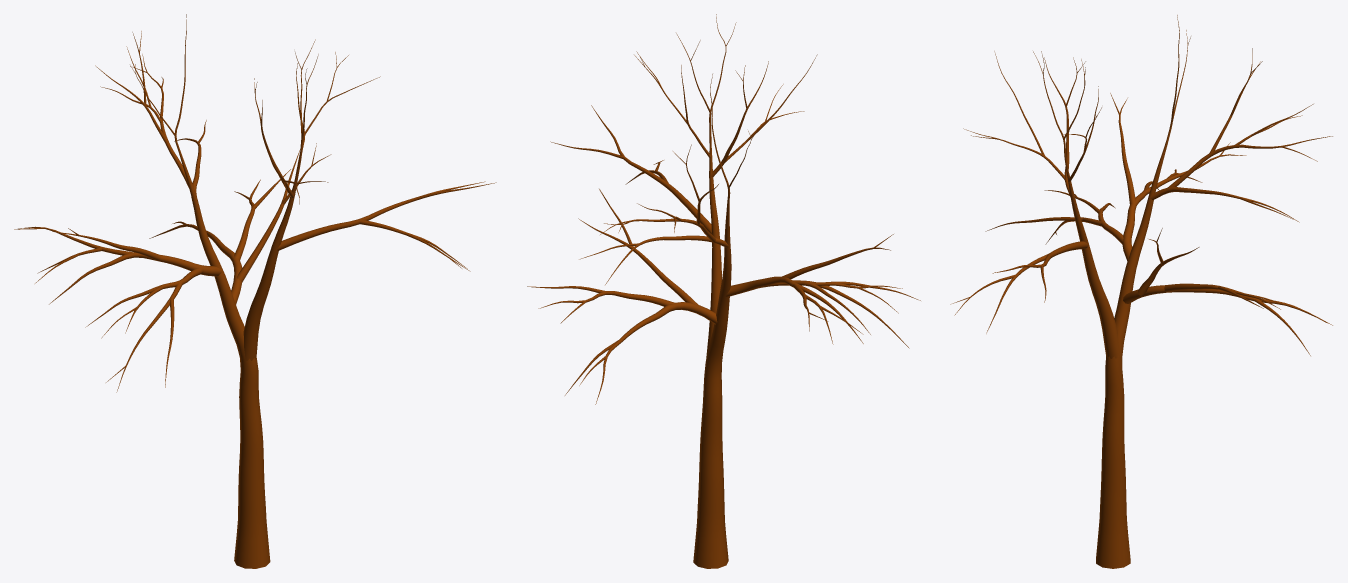
The model's file is TREE_TRUNK_3.fbx.
The picture shows the model from 3 angles, left to right: view 1: azimuth 30°, elevation 25°; view 2: azimuth 150°, elevation 25°; view 3: azimuth 270°, elevation 25°; orthographic projection. The views are drawn at different scales.
Visible parts, largest first — view 1: tree.005; view 2: tree.005; view 3: tree.005.
Part boxes in pixels (left/top/right/bottom): tree.005: left=14, top=14, right=496, bottom=568; tree.005: left=527, top=14, right=920, bottom=568; tree.005: left=950, top=15, right=1332, bottom=568.
Size of the model in its own units: 802 by 1041 by 682.
